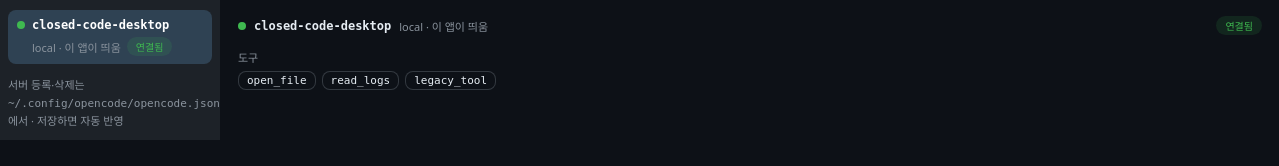
Test: 도구를 고르면 설명이 열린다 › 다른 것을 누르면 앞의 것은 닫힌다 — 한 번에 하나다
Click the button "open_file" at (277, 80), box [238,71,316,90]
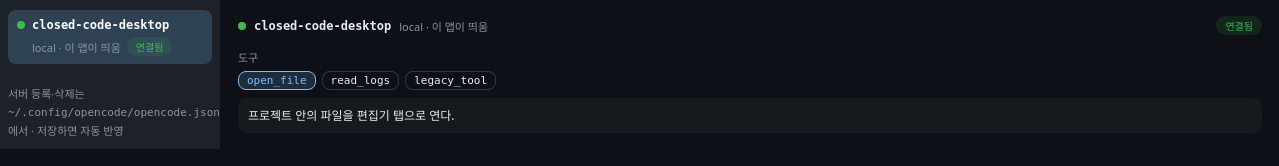
Click the button "read_logs" at (360, 80), box [322,71,399,90]
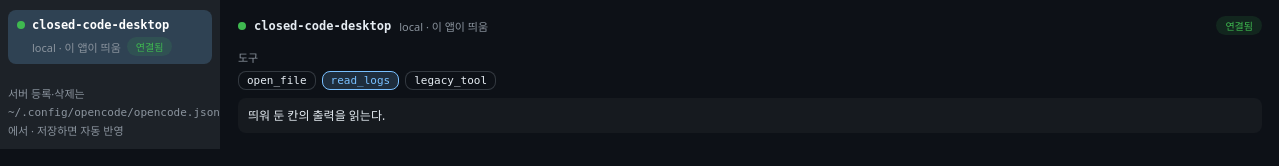
Now the text "띄워 둔 칸의 출력을 읽는다." is shown, box [238,98,1262,133]
Now the text "편집기 탭으로 연다" is gone
